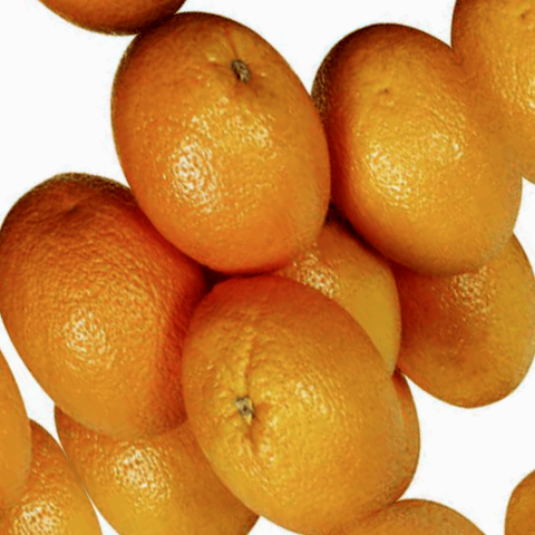orange: (0, 125, 278, 492), (66, 0, 388, 314), (130, 242, 452, 535), (279, 0, 535, 324)
